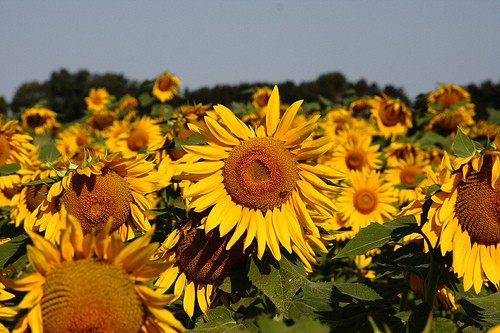flower: (172, 83, 354, 271), (14, 216, 191, 331), (30, 144, 168, 243), (434, 147, 500, 290), (334, 168, 402, 234), (331, 132, 382, 178)
